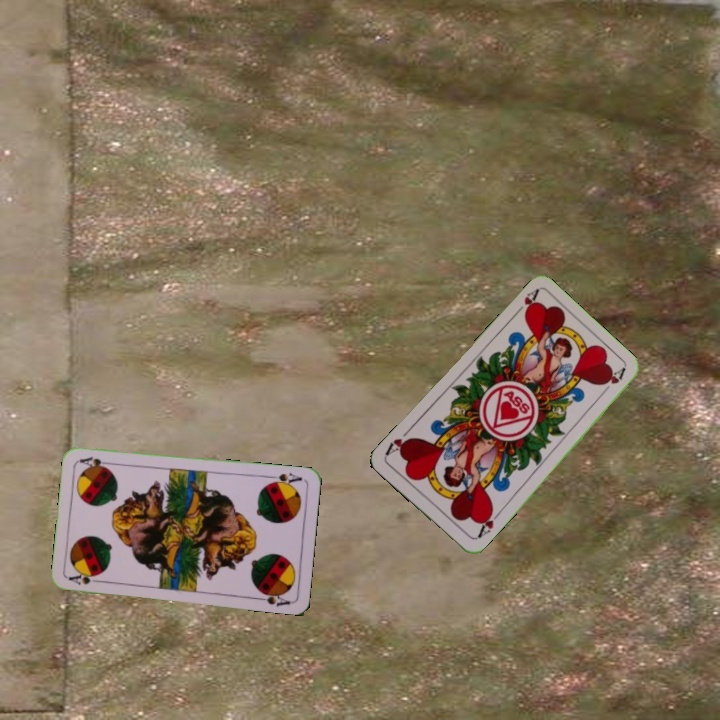HA: (472, 505, 503, 541), (509, 286, 541, 320)
SA: (264, 469, 304, 489), (65, 569, 106, 587)
